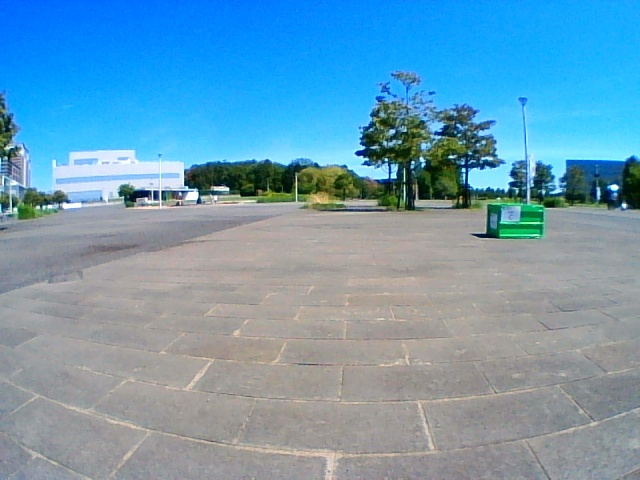green_box: (487, 203, 543, 239)
tag: (502, 207, 519, 223)
